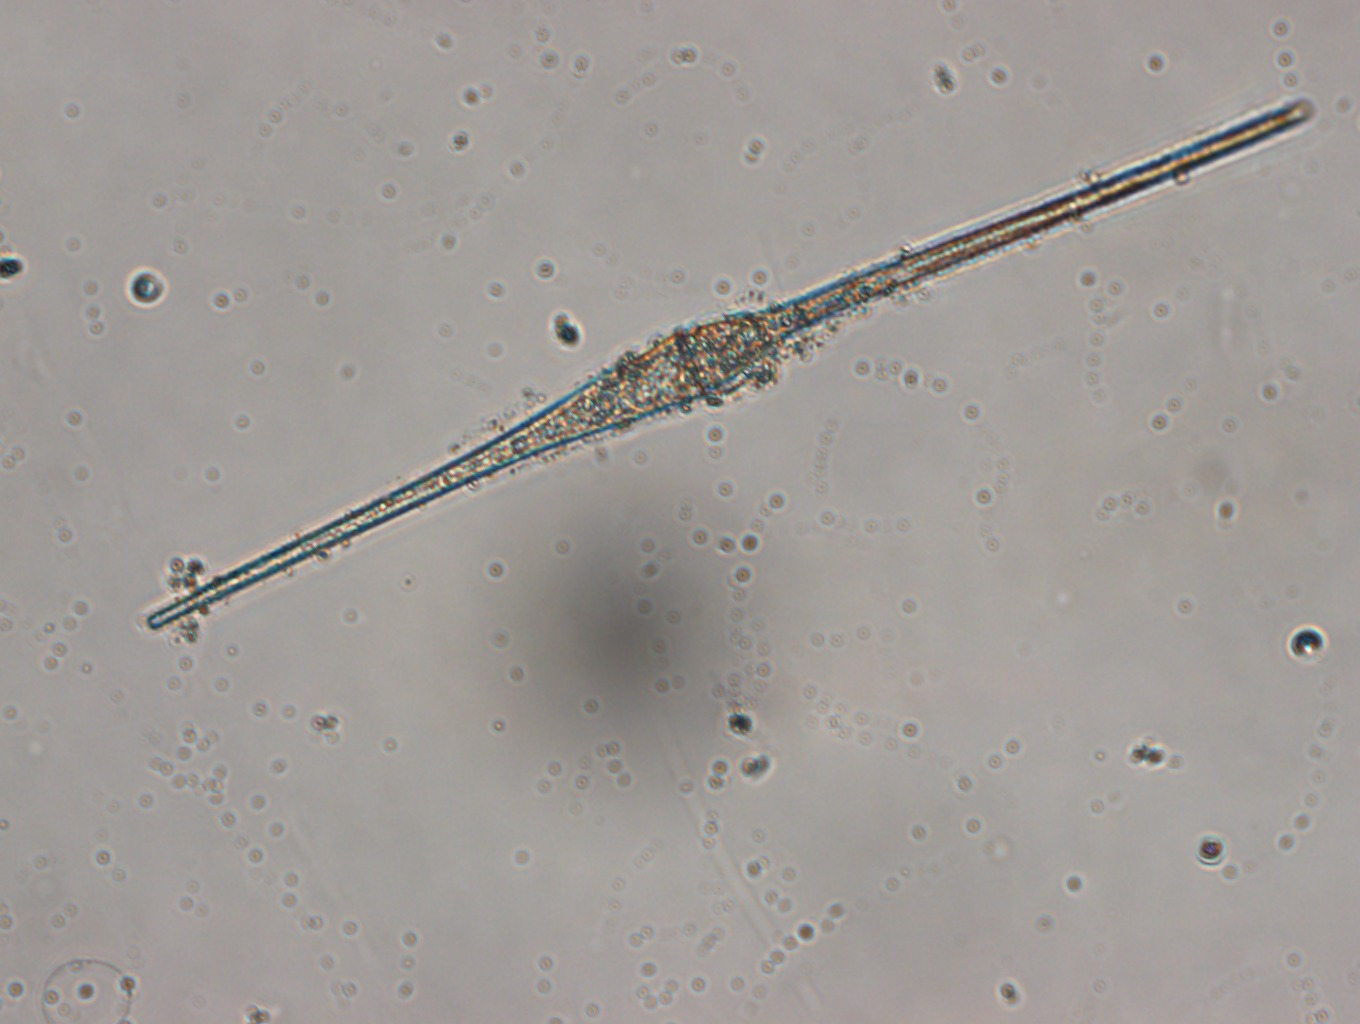ceratium fusus: (143, 87, 1320, 635)
